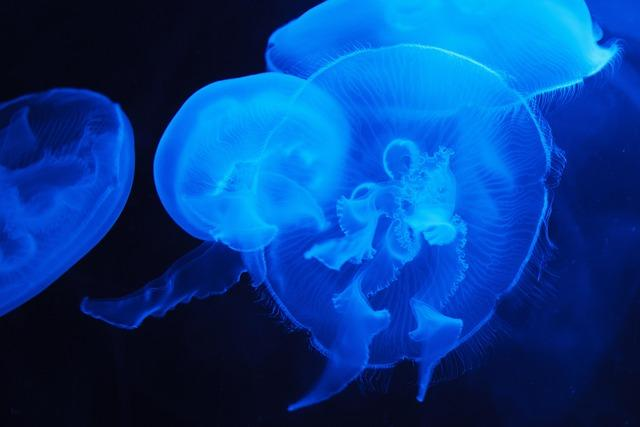Non_Gorille: (139, 20, 590, 382)
